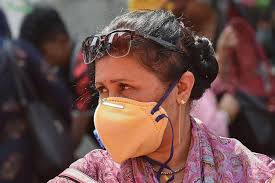mask: (72, 26, 196, 157)
